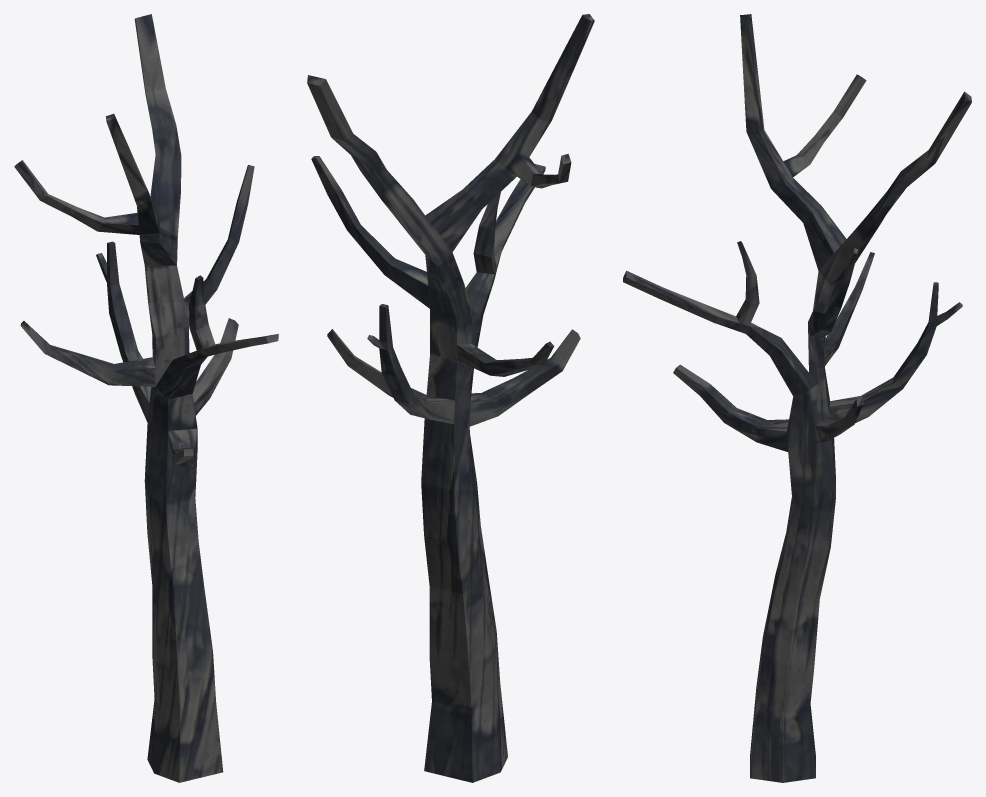
The model's file is TreeNoLeaves.fbx.
3 views of the same model, side by side, from view 1: azimuth 30°, elevation 25°; view 2: azimuth 150°, elevation 25°; view 3: azimuth 270°, elevation 25° (orthographic). The views are drawn at different scales.
Visible parts, largest first — view 1: Treebody.001; view 2: Treebody.001; view 3: Treebody.001.
Part boxes in pixels (bbox=[...]): Treebody.001: bbox=[14, 14, 278, 782]; Treebody.001: bbox=[307, 14, 594, 782]; Treebody.001: bbox=[623, 14, 971, 782].
Bounding box in the file's own units: 760 × 2102 × 939.
